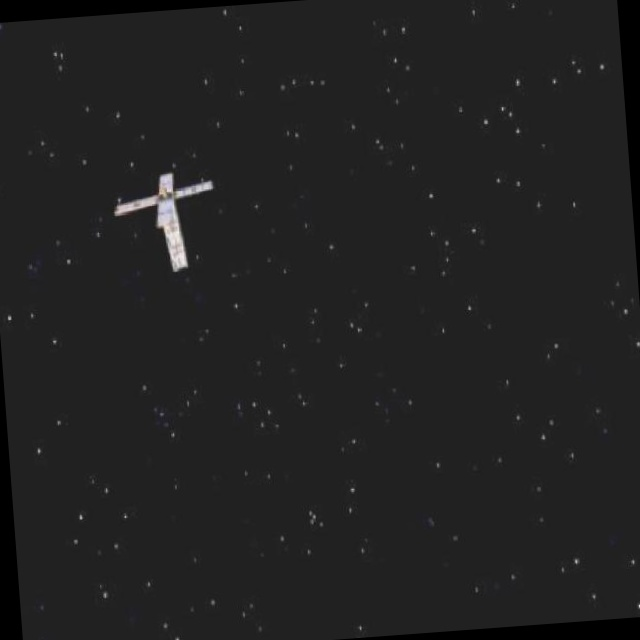medium_debris: (116, 170, 236, 274)
